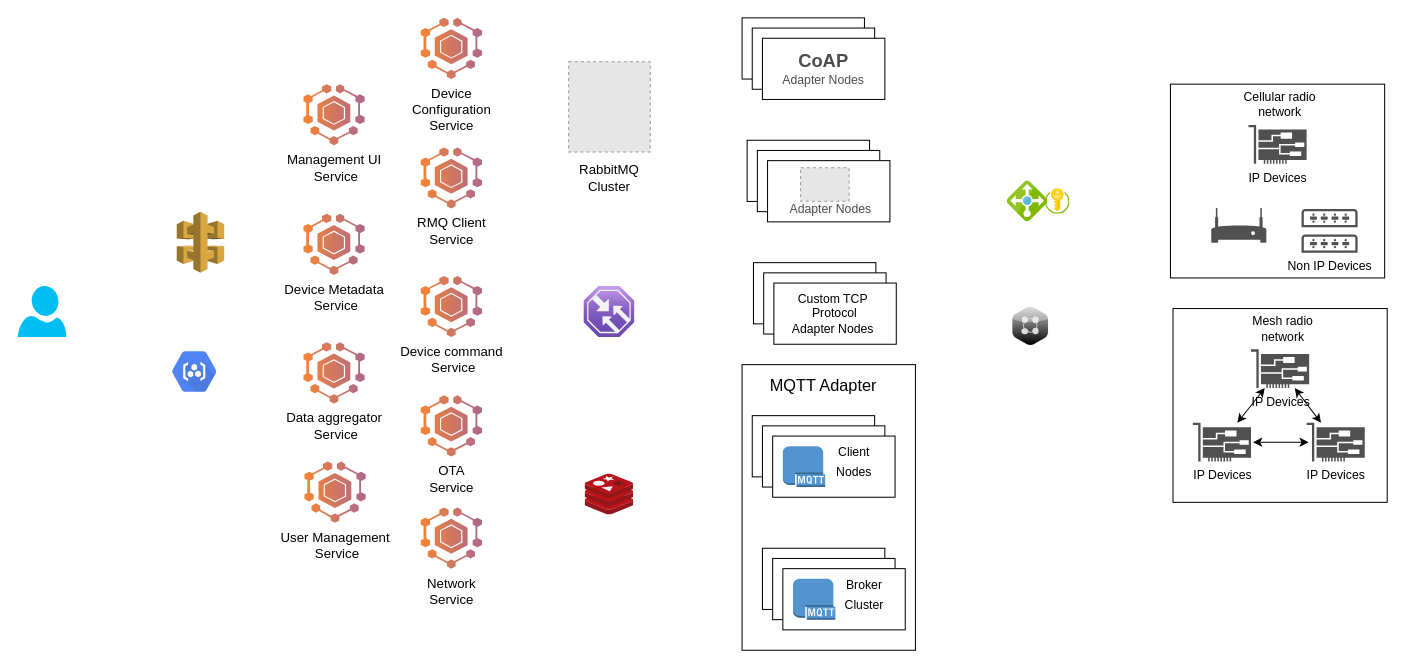
Image size: 1405x668. Some labels were removed from this diagram. Grey dashed boxes stand in for pictures. Each missing label, with the centre of its shape:
Adapter Manager: point (608, 311)
API Gateway (Spring Cloud gateway): point (200, 242)
Gateway: point (1238, 225)
Protocol Registry ?: point (1030, 325)
Redis Cache: point (609, 494)
Service Registory (Eureka): point (193, 371)
TCP LoadBalancer: point (1027, 201)
User: point (41, 311)
